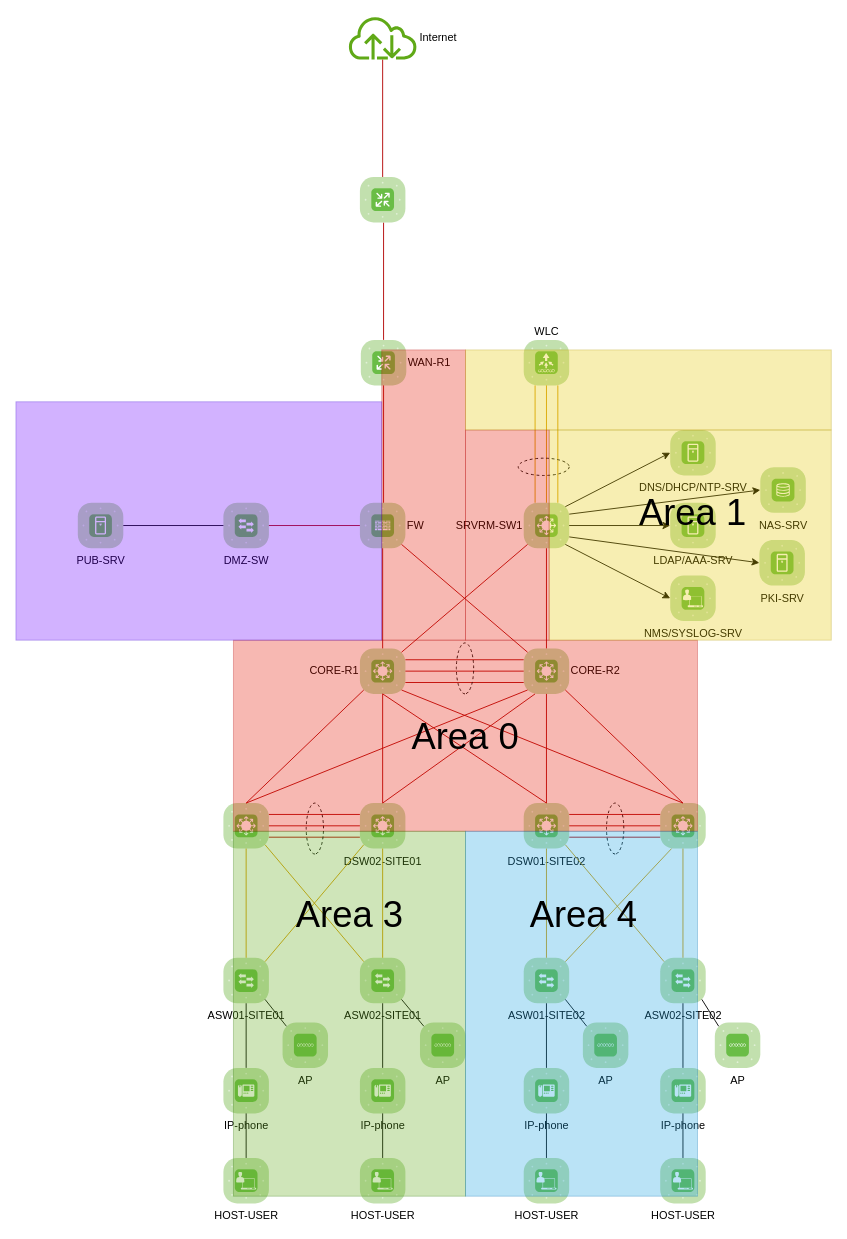
Image size: 847x1239. Some labels were removed from this diagram. The shapes that lost their labels are listed below. From the top down, each one's box as (x1, y1, x2, y2) in pixels, then its label:
(359, 176, 405, 222): ISP
(15, 401, 382, 640): Area 2
(222, 802, 269, 849): DSW01-SITE01
(659, 802, 706, 849): DSW02-SITE02
